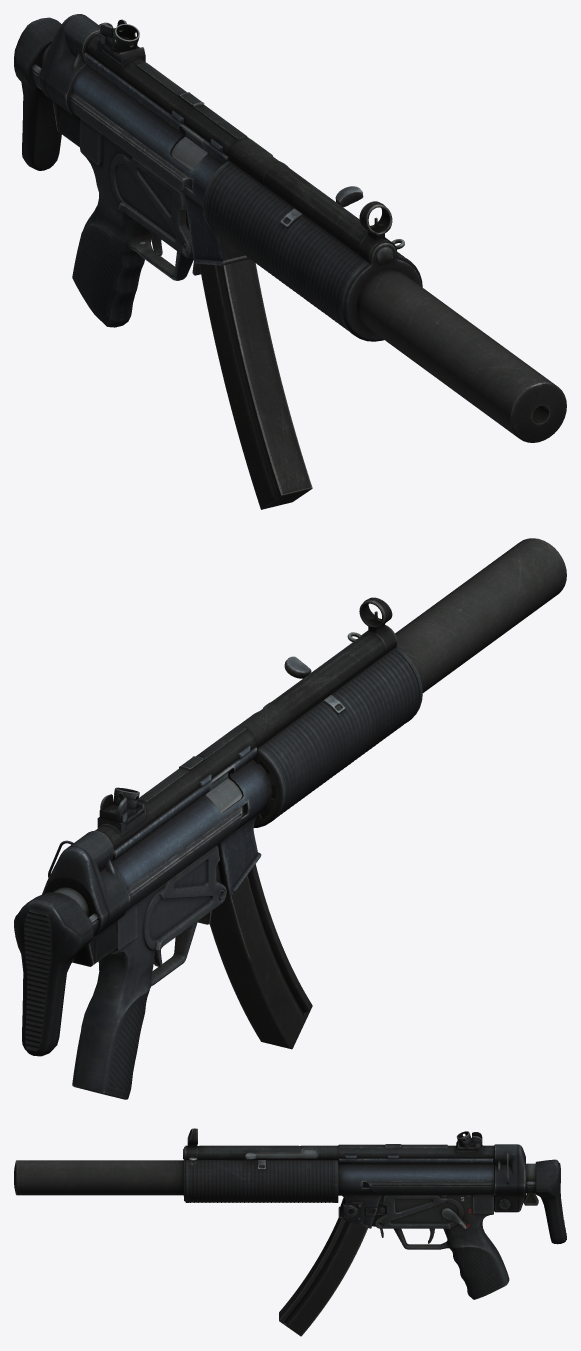
3 views of the same model, one above another, from view 1: azimuth 30°, elevation 25°; view 2: azimuth 150°, elevation 25°; view 3: azimuth 270°, elevation 25° (orthographic). The views are drawn at different scales.
Visible parts, largest first — view 1: mp5sd; view 2: mp5sd; view 3: mp5sd.
Boxes of the visible parts, <box> form: mp5sd: <box>14,14,566,509</box>; mp5sd: <box>14,538,566,1099</box>; mp5sd: <box>14,1128,566,1336</box>.
Bounding box in the file's own units: 2.81 × 12.42 × 30.62.
1 material, 1 textured.
